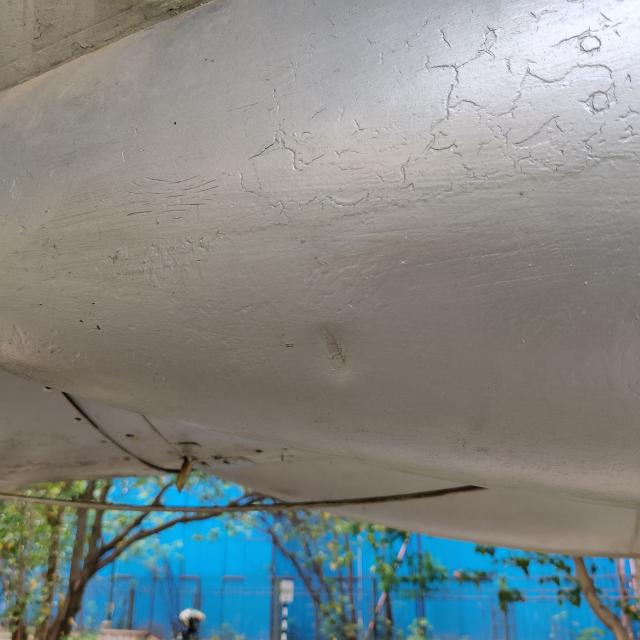dent: (294, 306, 376, 386)
